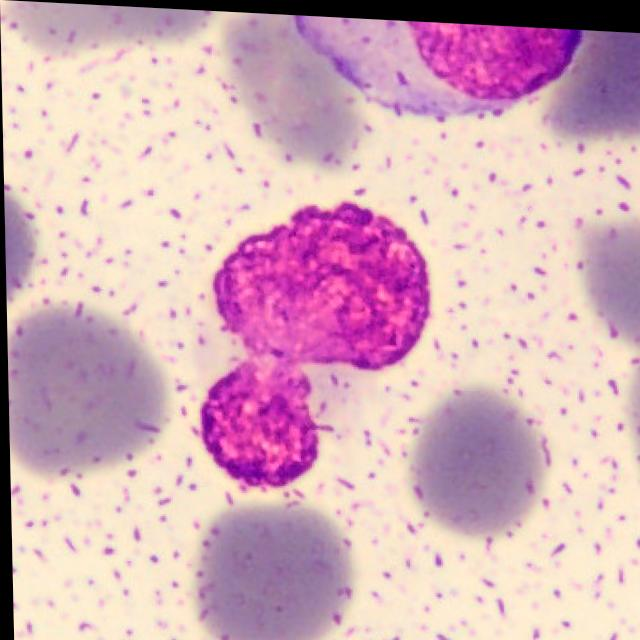Mieloblasto: (200, 201, 430, 489)
